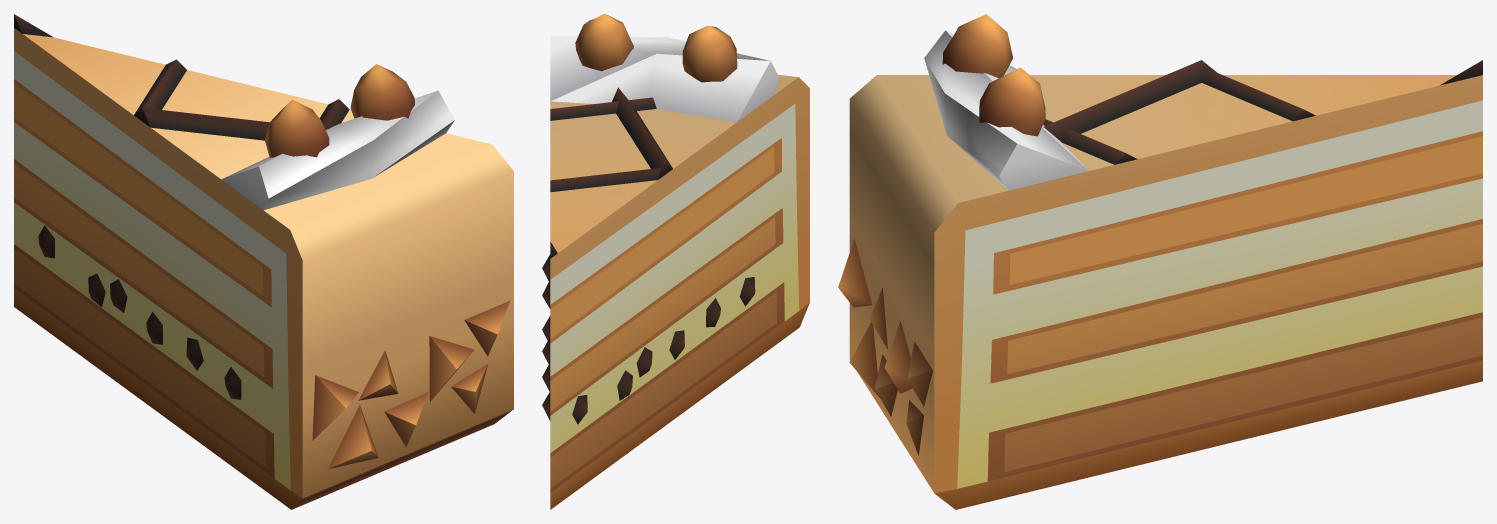
Rendered from m_MarzipanCake01_Slice01.fbx.
3 renders of one model, left to right at view 1: azimuth 30°, elevation 25°; view 2: azimuth 150°, elevation 25°; view 3: azimuth 270°, elevation 25°, orthographic. The views are drawn at different scales.
Visible parts, largest first — view 1: m_MarzipanCake01_Slice01; view 2: m_MarzipanCake01_Slice01; view 3: m_MarzipanCake01_Slice01.
Boxes of the visible parts, x1=… form: m_MarzipanCake01_Slice01: x1=14, y1=14, x2=513, y2=509; m_MarzipanCake01_Slice01: x1=542, y1=14, x2=809, y2=509; m_MarzipanCake01_Slice01: x1=838, y1=14, x2=1482, y2=509.
Bounding box in the file's own units: 7.23 × 9.64 × 14.26.
